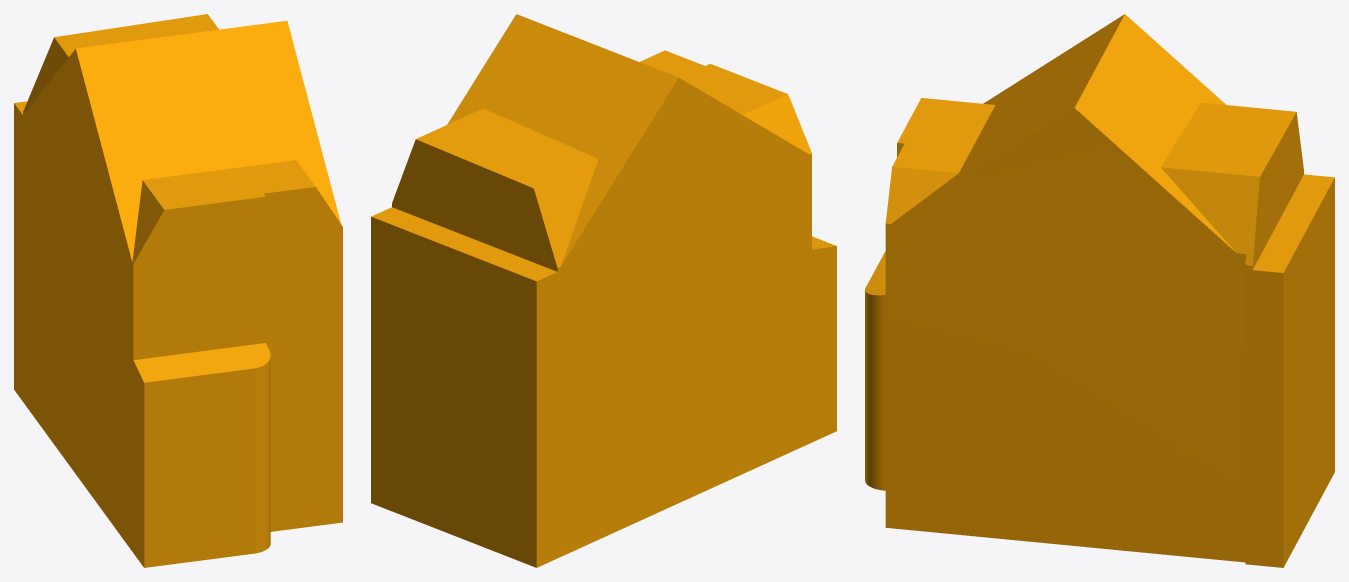
File: DEHB01ALn0001OSV.gltf
3 views of the same model, side by side, from view 1: azimuth 30°, elevation 25°; view 2: azimuth 150°, elevation 25°; view 3: azimuth 270°, elevation 25° (orthographic). The views are drawn at different scales.
Visible parts, largest first — view 1: Z_UP; view 2: Z_UP; view 3: Z_UP.
Boxes of the visible parts, x1,y1,x2,y2 form: Z_UP: (14,14,342,567); Z_UP: (371,14,836,567); Z_UP: (865,14,1334,567).
Bounding box in the file's own units: 9.33 × 13.77 × 13.39.
